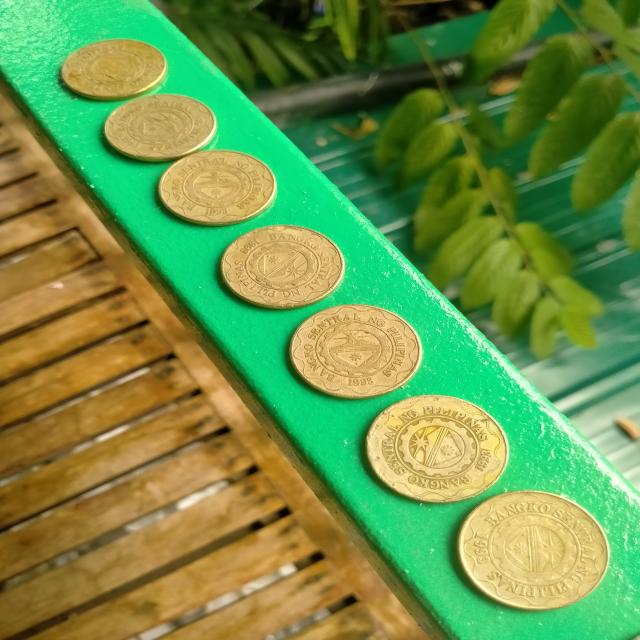5_Old_Back: (370, 398, 494, 494), (296, 312, 406, 386), (226, 231, 326, 302)
